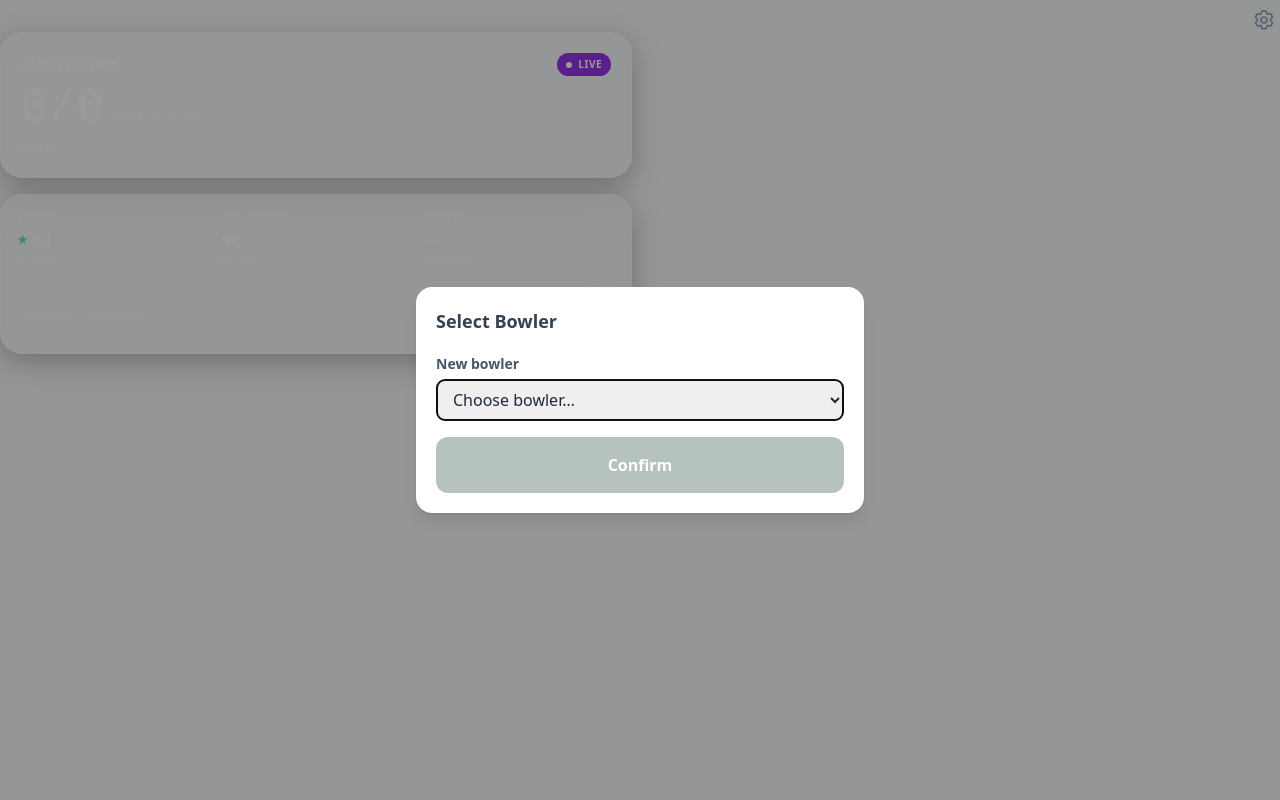
Test: ScorerDashboard integration › shows a toast above the modal when the bowler pick is rejected
Select "B1" in the dropdown. click: (640, 400)
box: [436,379,844,421]
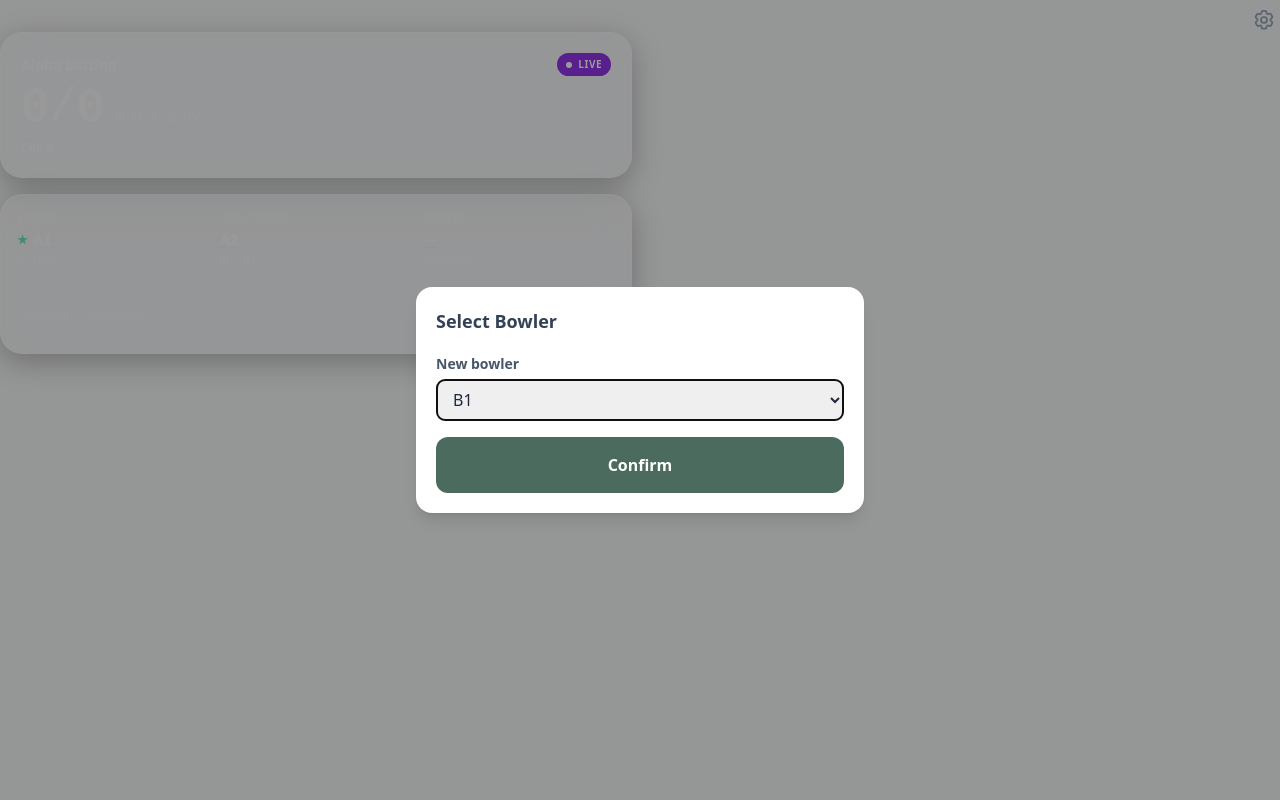
Click the button "Confirm". click: (640, 465)
box: [436,437,844,493]
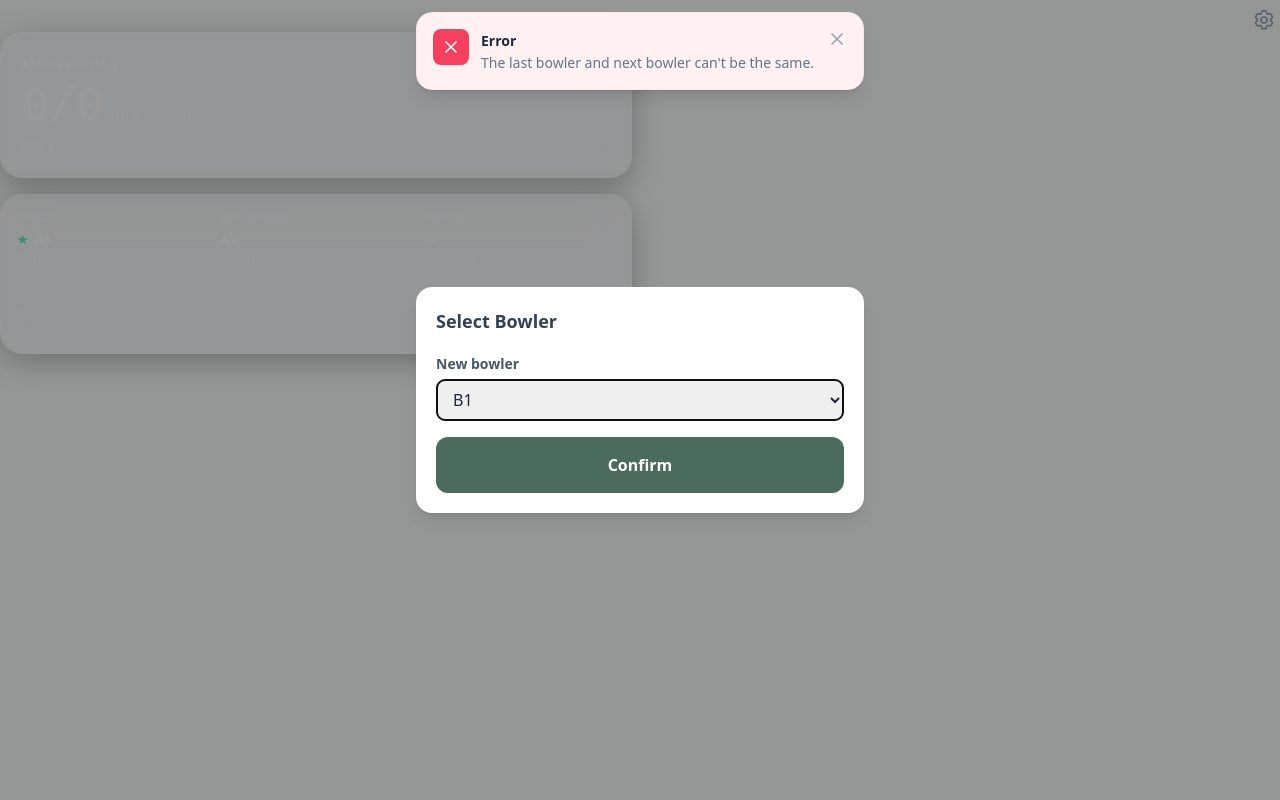
Now the message "Error The last bowler and next bowler can't be the same." is shown, box [416,12,864,90]
